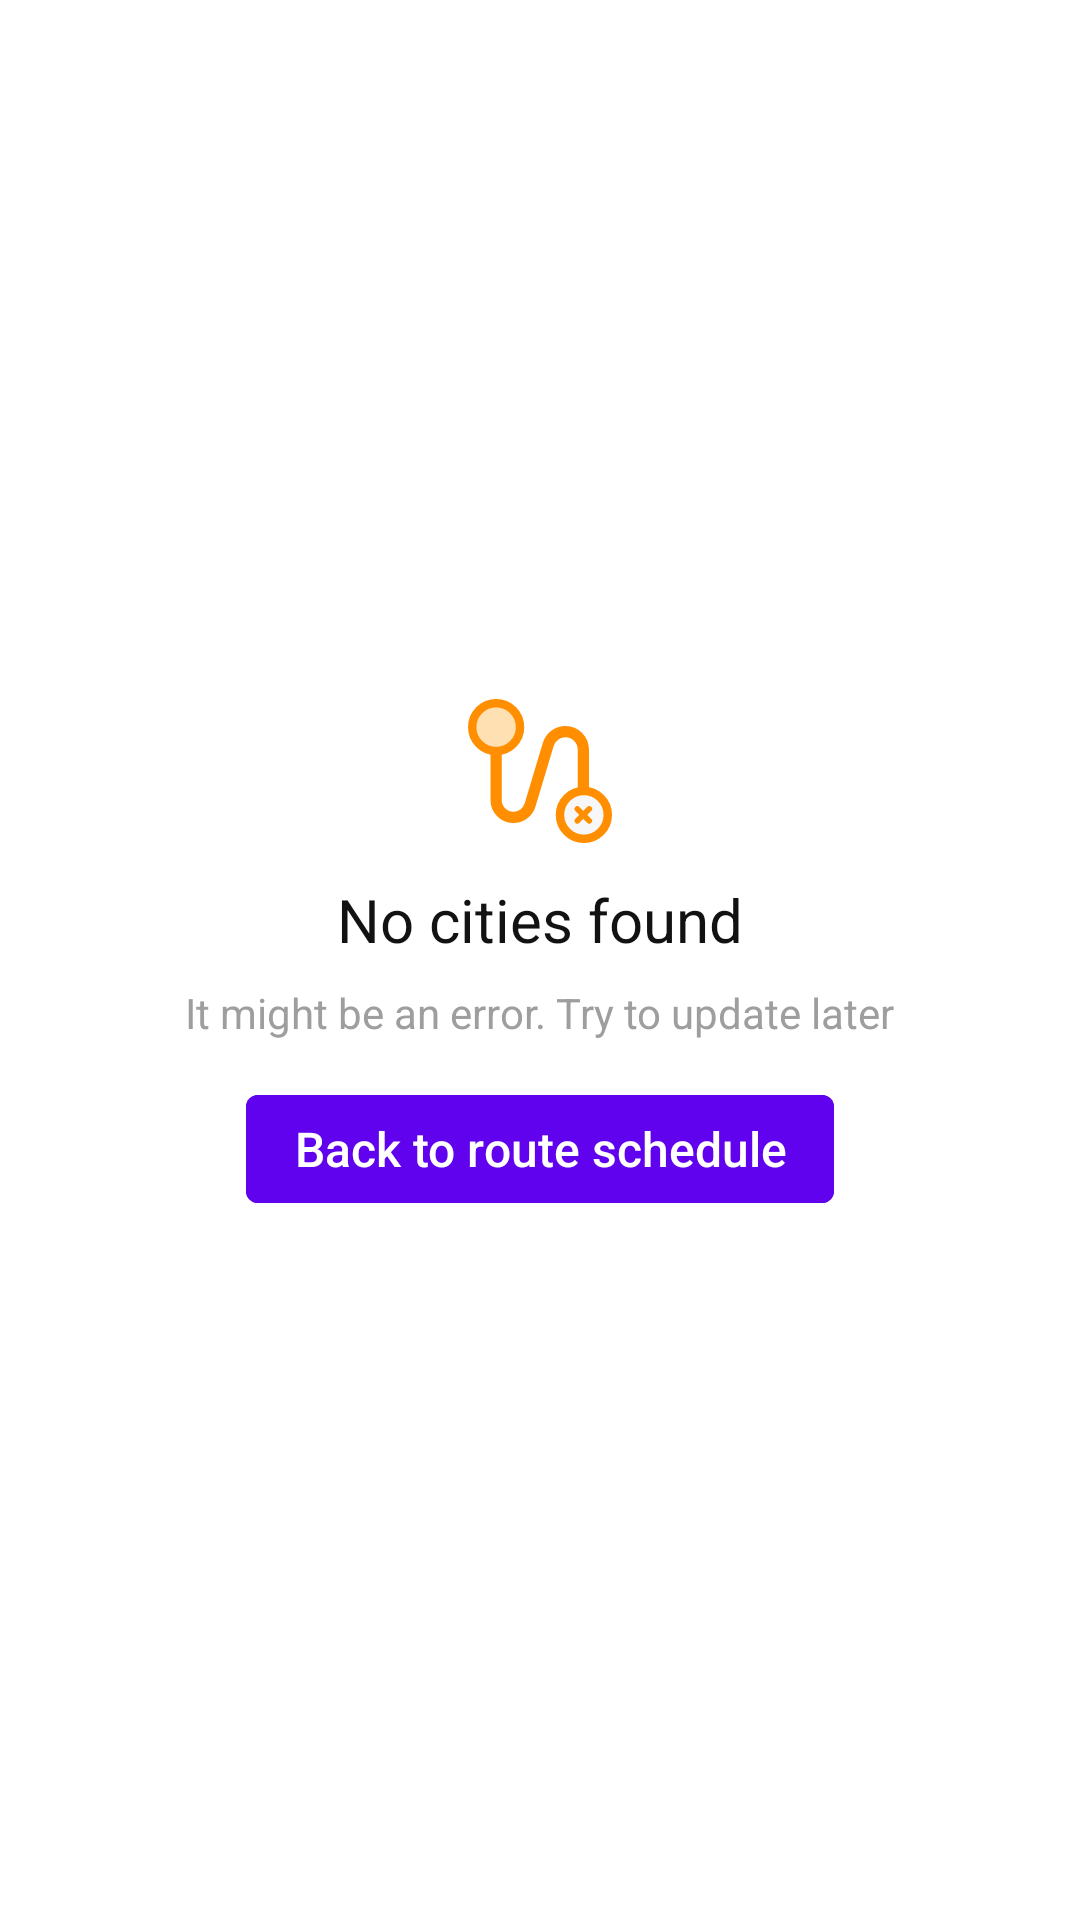

Screen size 1080 × 1920. Icon name, then its center in pixels as (x,y):
empty route cities: (540,771)
